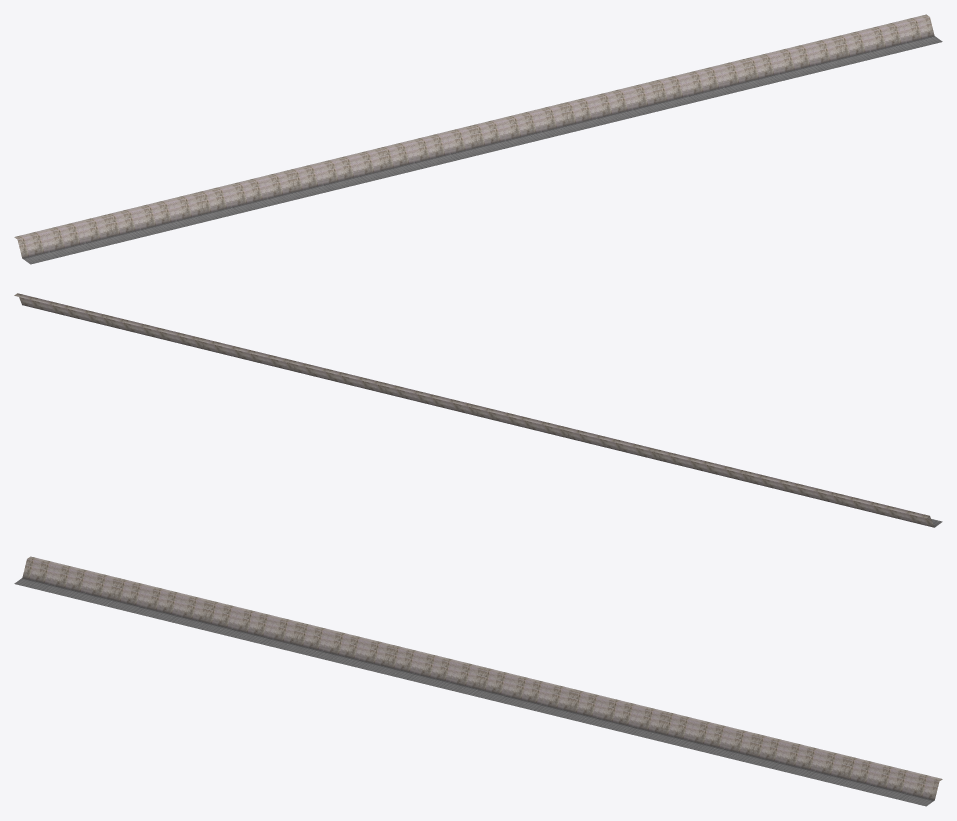
The model's file is rightground.fbx.
3 renders of one model, top to bottom at view 1: azimuth 30°, elevation 25°; view 2: azimuth 150°, elevation 25°; view 3: azimuth 330°, elevation 25°, orthographic.
Parts seen in each view (by area): view 1: pPlane2, pPlane4, pPlane1, pPlane7, pPlane8, pPlane9, pPlane10, pPlane3, pPlane6, pPlane5; view 2: pPlane1, pPlane2, pPlane8, pPlane9, pPlane4, pPlane6, pPlane10, pPlane3, pPlane5, pPlane7; view 3: pPlane7, pPlane9, pPlane1, pPlane2, pPlane3, pPlane4, pPlane10, pPlane5, pPlane8, pPlane6.
Part boxes in pixels (x1=…): pPlane2: x1=105, y1=192, x2=212, y2=241; pPlane4: x1=288, y1=148, x2=395, y2=197; pPlane1: x1=14, y1=215, x2=121, y2=264; pPlane7: x1=561, y1=81, x2=668, y2=130; pPlane8: x1=653, y1=59, x2=759, y2=108; pPlane9: x1=744, y1=37, x2=851, y2=86; pPlane10: x1=835, y1=14, x2=942, y2=63; pPlane3: x1=197, y1=170, x2=303, y2=219; pPlane6: x1=470, y1=103, x2=577, y2=152; pPlane5: x1=379, y1=126, x2=486, y2=175; pPlane1: x1=835, y1=493, x2=942, y2=527; pPlane2: x1=744, y1=471, x2=842, y2=505; pPlane8: x1=197, y1=338, x2=295, y2=371; pPlane9: x1=106, y1=315, x2=204, y2=349; pPlane4: x1=562, y1=427, x2=660, y2=460; pPlane6: x1=379, y1=382, x2=477, y2=416; pPlane10: x1=14, y1=293, x2=112, y2=327; pPlane3: x1=653, y1=449, x2=751, y2=482; pPlane5: x1=471, y1=404, x2=569, y2=438; pPlane7: x1=288, y1=360, x2=386, y2=393; pPlane7: x1=561, y1=690, x2=668, y2=739; pPlane9: x1=744, y1=734, x2=851, y2=783; pPlane1: x1=14, y1=556, x2=121, y2=605; pPlane2: x1=105, y1=579, x2=212, y2=628; pPlane3: x1=197, y1=601, x2=303, y2=650; pPlane4: x1=288, y1=623, x2=395, y2=672; pPlane10: x1=835, y1=757, x2=942, y2=806; pPlane5: x1=379, y1=645, x2=486, y2=694; pPlane8: x1=653, y1=712, x2=759, y2=761; pPlane6: x1=470, y1=668, x2=577, y2=717.
Bounding box in the file's own units: 15000 × 242 × 471.
1 material, 1 textured.
